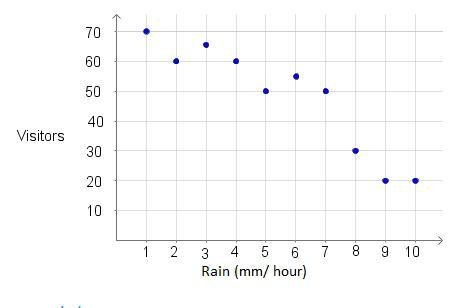axis: (116, 233, 447, 245), (111, 13, 123, 243)
point: (232, 57, 241, 66), (262, 86, 271, 95), (352, 146, 361, 155), (381, 176, 390, 185), (142, 28, 152, 36), (411, 177, 421, 185), (172, 57, 181, 65), (293, 71, 300, 81), (202, 41, 210, 49), (323, 86, 330, 95)
